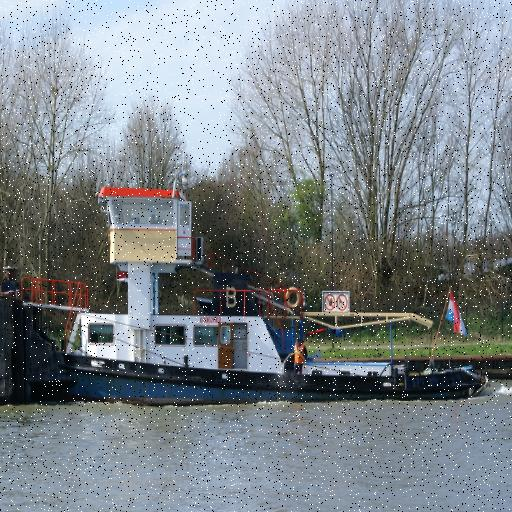tugboat: (19, 144, 496, 419)
